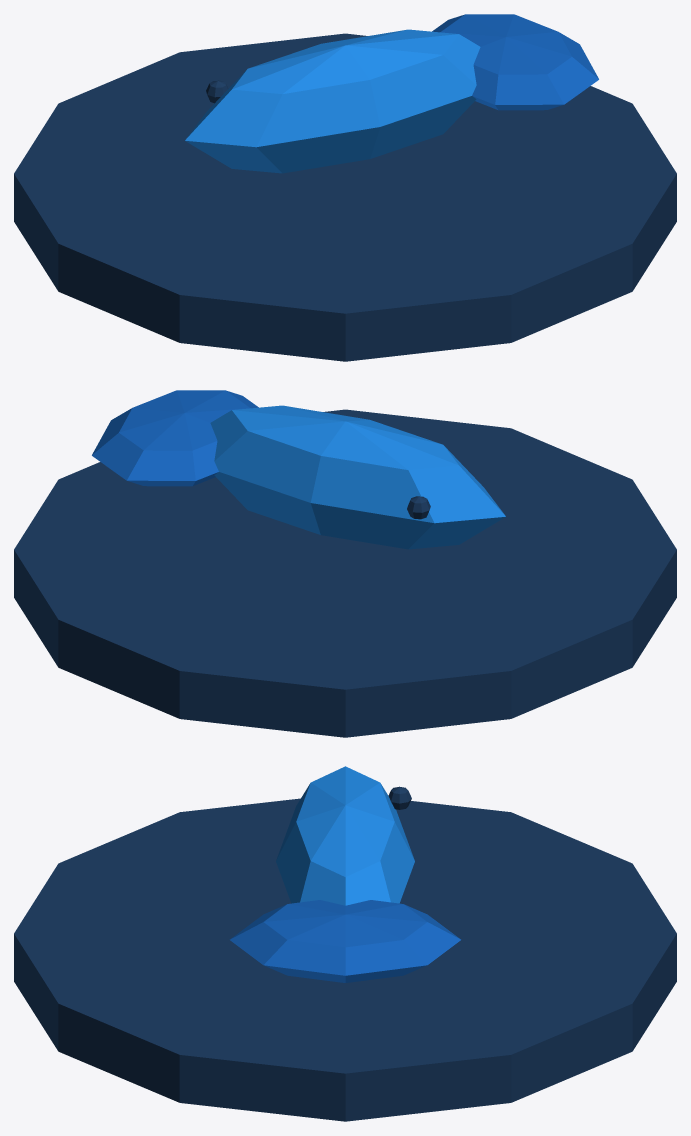
Rendered from Marker_Fishing_v001.fbx.
The picture shows the model from 3 angles, top to bottom: view 1: azimuth 30°, elevation 25°; view 2: azimuth 150°, elevation 25°; view 3: azimuth 270°, elevation 25°; orthographic projection.
Visible parts, largest first — view 1: Marker, FishBody, FishTail; view 2: Marker, FishBody, FishTail; view 3: Marker, FishBody, FishTail.
Part boxes in pixels (x1=…): Marker: x1=14, y1=33, x2=676, y2=361; FishBody: x1=185, y1=29, x2=480, y2=173; FishTail: x1=432, y1=14, x2=598, y2=110; Marker: x1=14, y1=409, x2=676, y2=737; FishBody: x1=210, y1=405, x2=505, y2=549; FishTail: x1=92, y1=390, x2=258, y2=486; Marker: x1=14, y1=798, x2=676, y2=1121; FishBody: x1=276, y1=766, x2=414, y2=905; FishTail: x1=230, y1=900, x2=460, y2=982.
Bounding box in the file's own units: 30 × 8.8 × 30.
